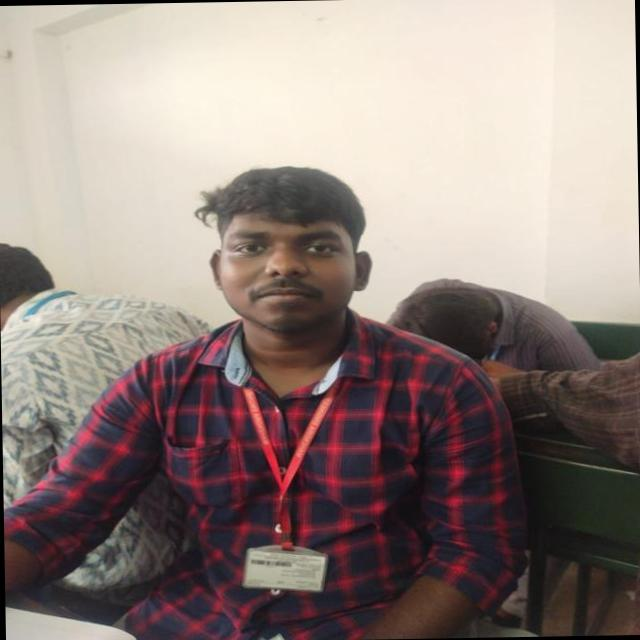id_card: (240, 370, 343, 590)
